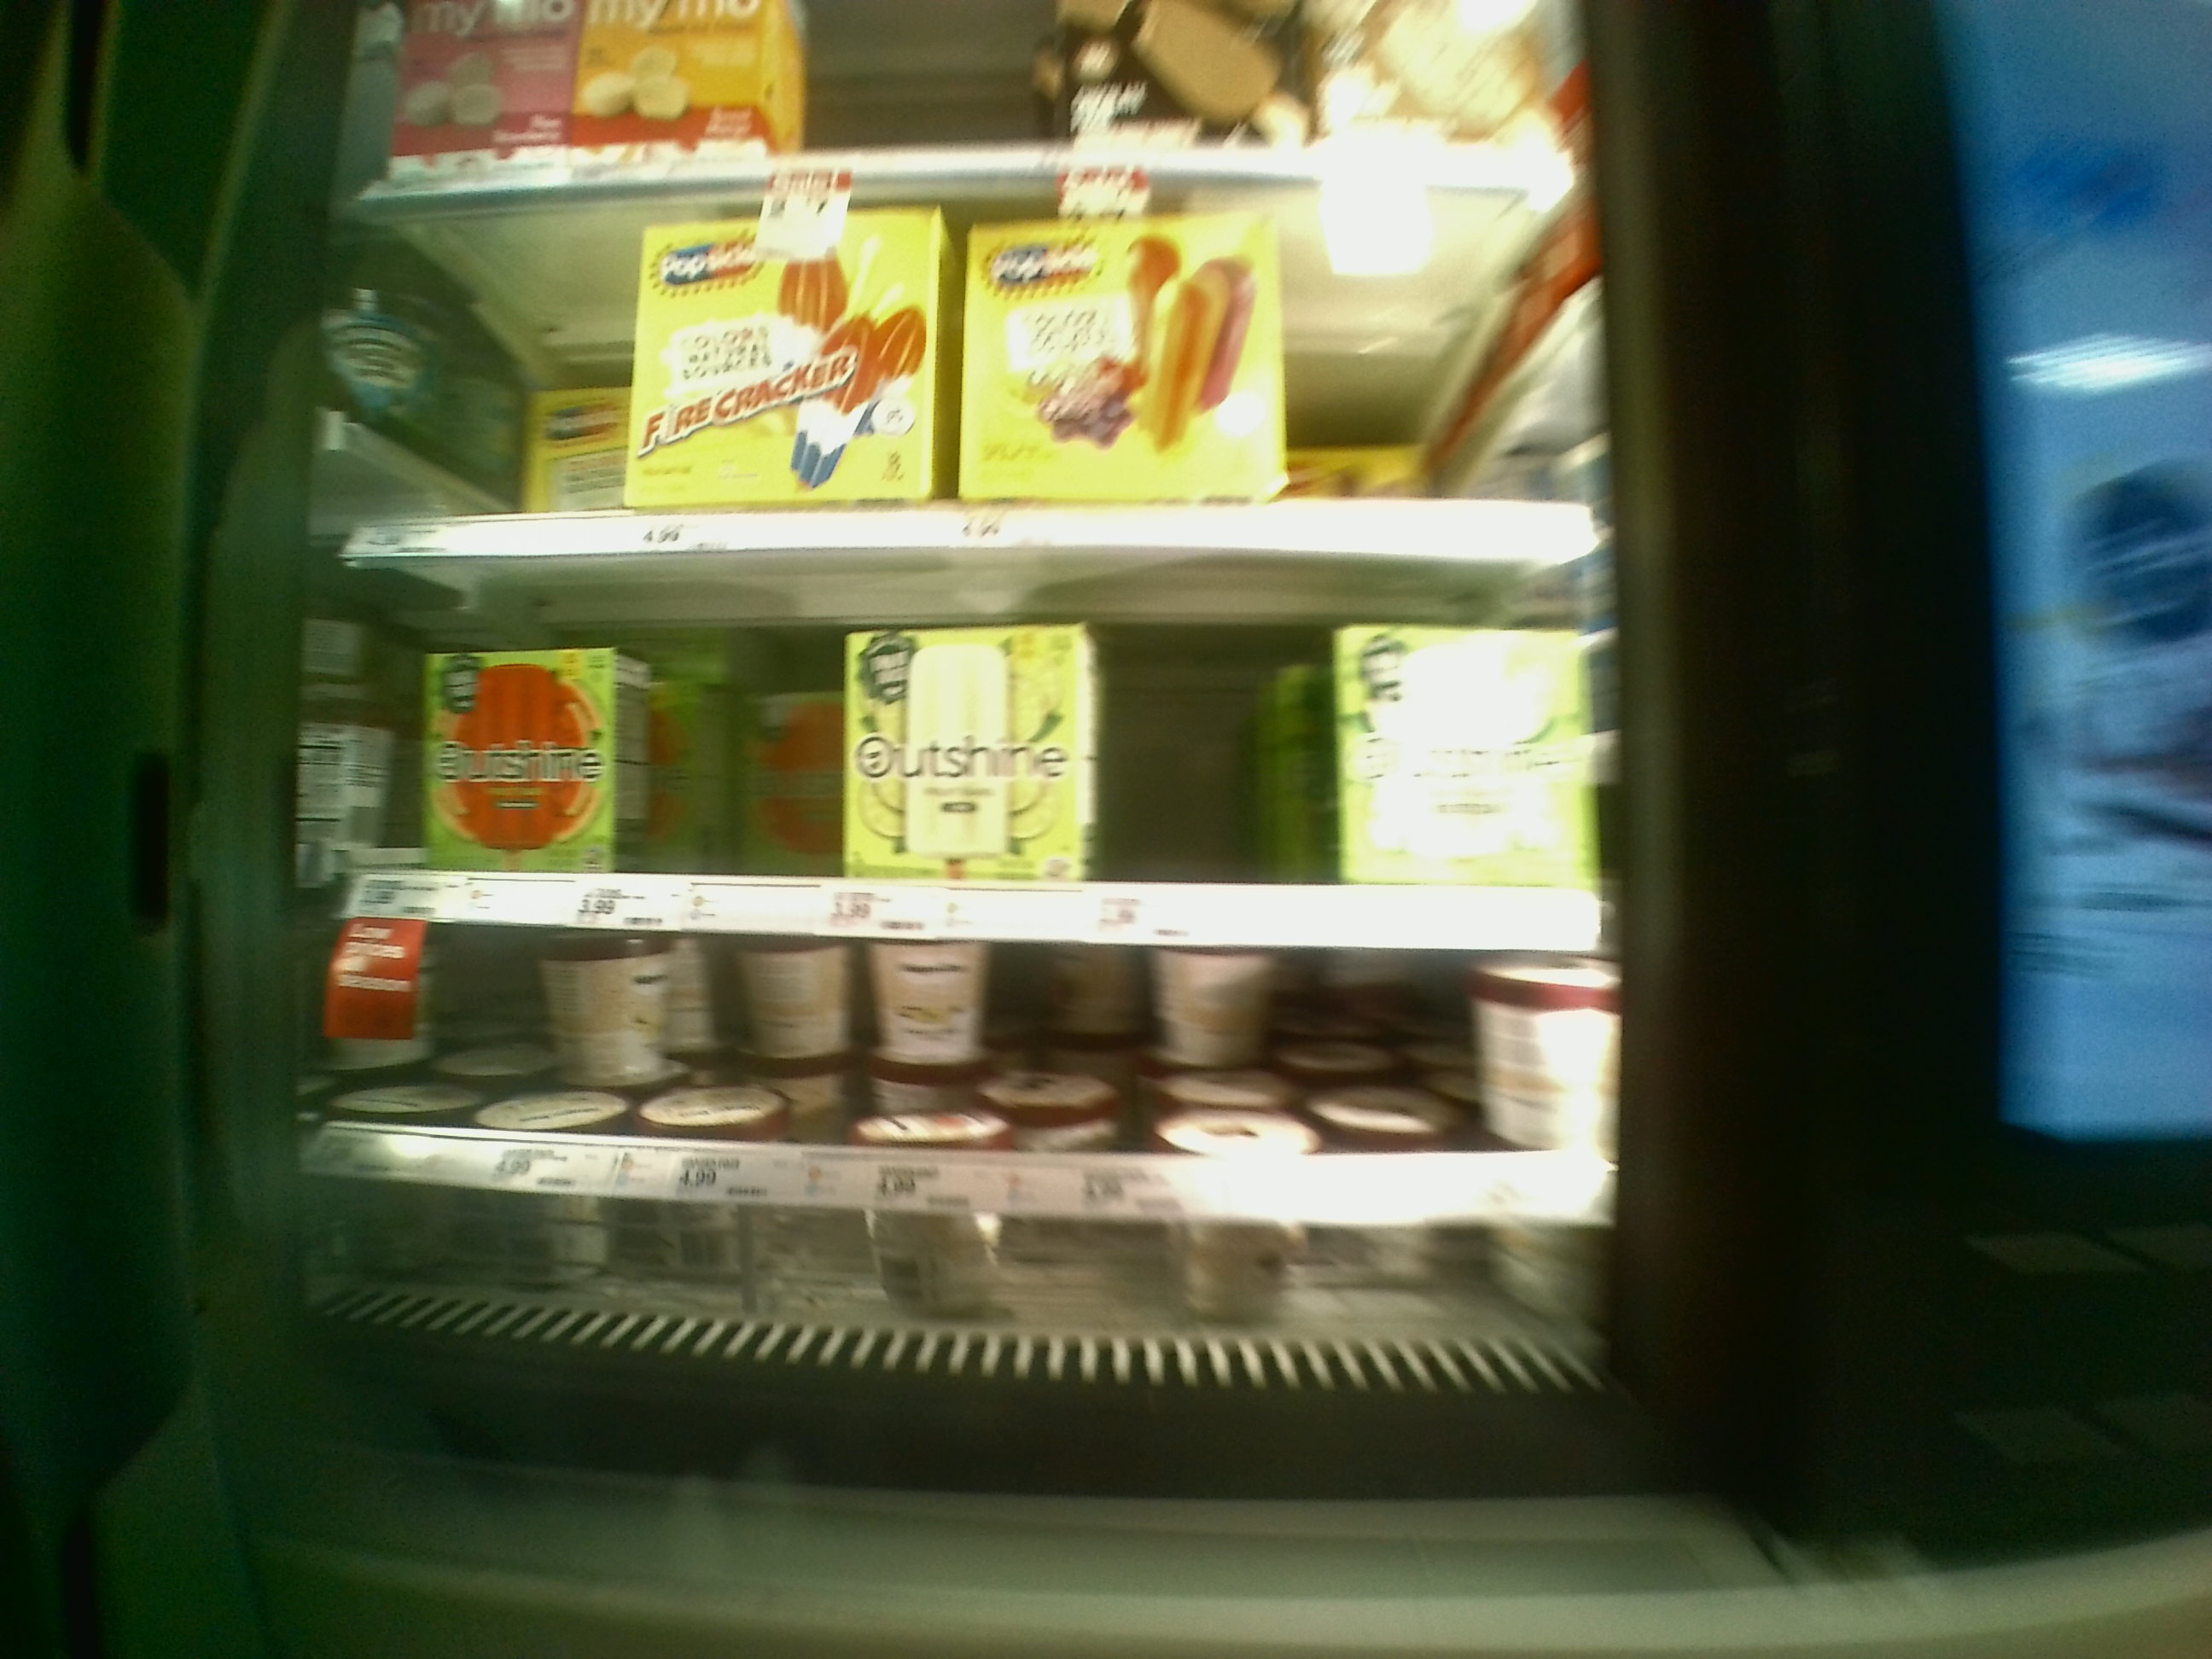ice-cream-shelf: (348, 552, 1629, 945), (380, 153, 1622, 556), (350, 927, 1615, 1229)
